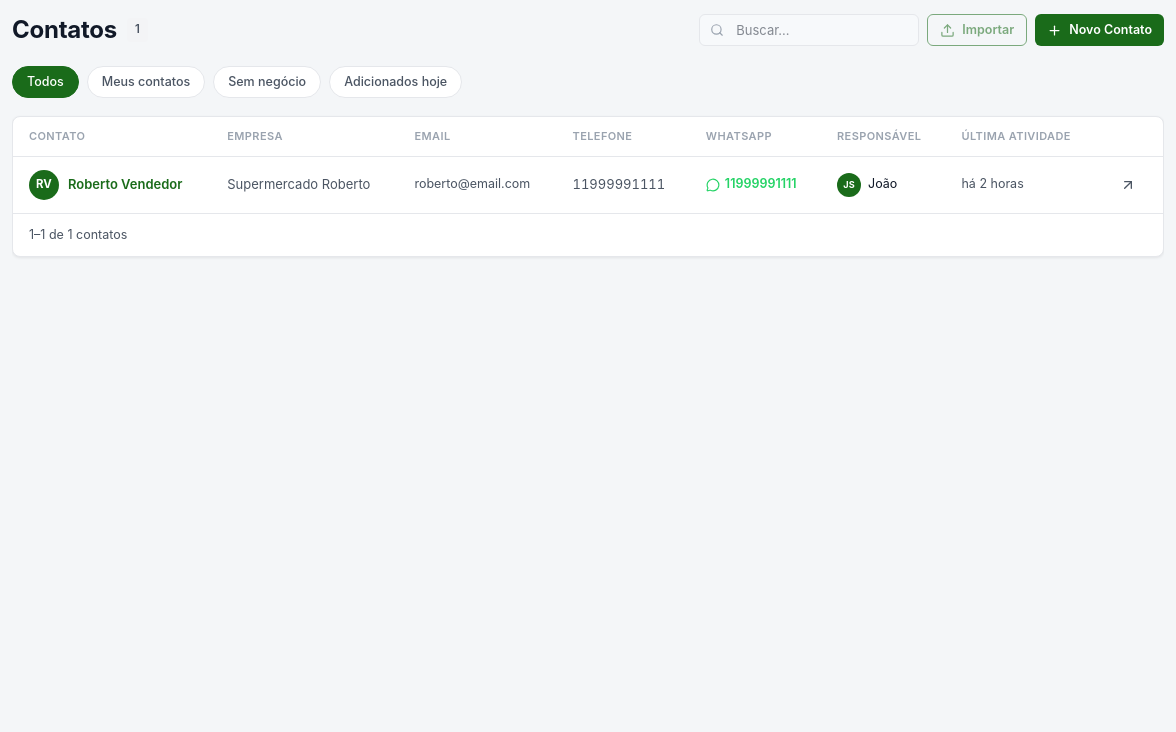
ContactsPage - UI e Interações › deve alternar para a página de detalhes ao clicar no link do contato
This screenshot has width=1176, height=732.
Click the button "Roberto Vendedor" at (125, 185), box [68,175,182,194]
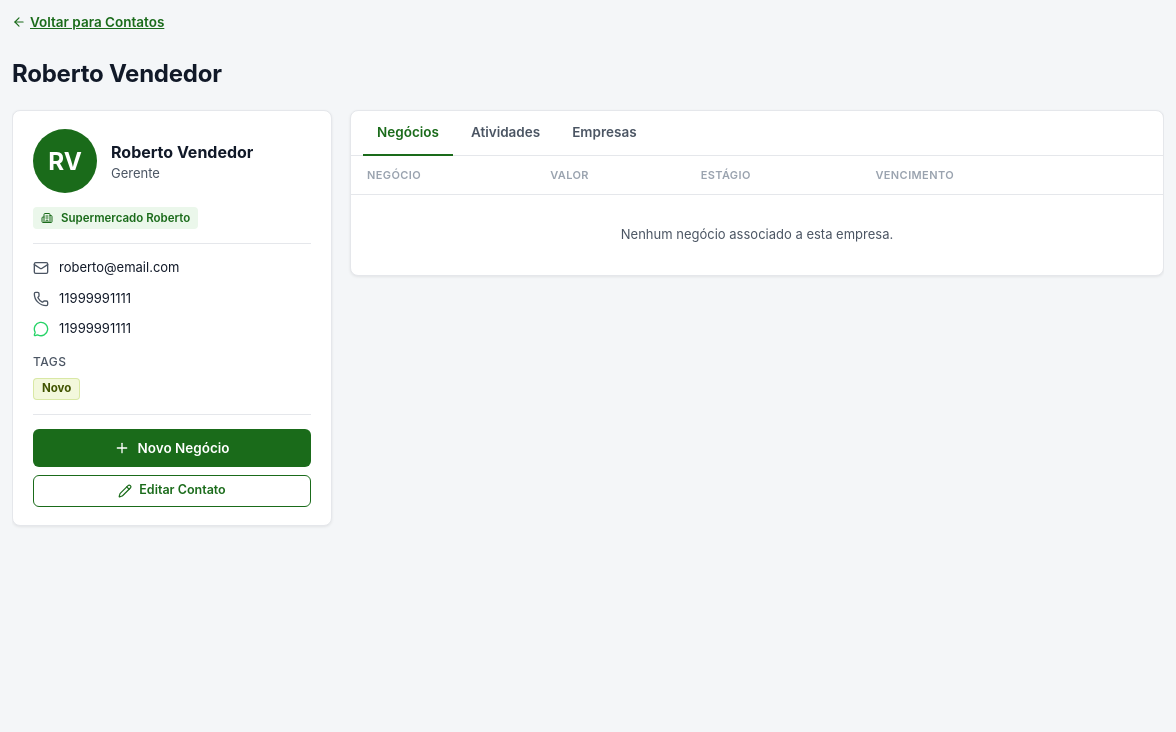
Check: the button "Voltar para Contatos" is shown, box [12,12,164,32]
Check: the text "Gerente" is shown, box [111,164,160,180]
